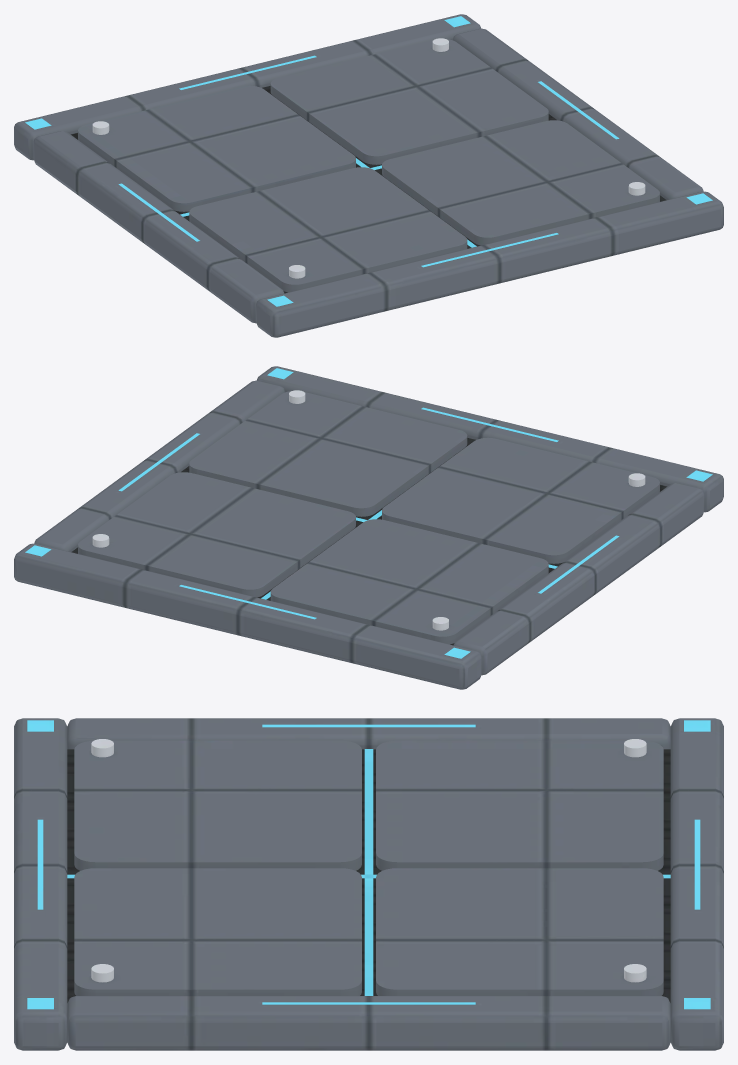
File: hull_enterprise_platform_armored.glb
The picture shows the model from 3 angles, top to bottom: view 1: azimuth 30°, elevation 25°; view 2: azimuth 150°, elevation 25°; view 3: azimuth 270°, elevation 25°; orthographic projection. The views are drawn at different scales.
Parts seen in each view (by area): view 1: te_hull_enterprise_platform_armored; view 2: te_hull_enterprise_platform_armored; view 3: te_hull_enterprise_platform_armored.
Boxes of the visible parts, x1=… form: te_hull_enterprise_platform_armored: x1=14, y1=14, x2=723, y2=337; te_hull_enterprise_platform_armored: x1=14, y1=366, x2=723, y2=689; te_hull_enterprise_platform_armored: x1=14, y1=718, x2=723, y2=1050.
Size of the model in its own units: 1 by 0.074 by 1.
1 material, 1 textured.
